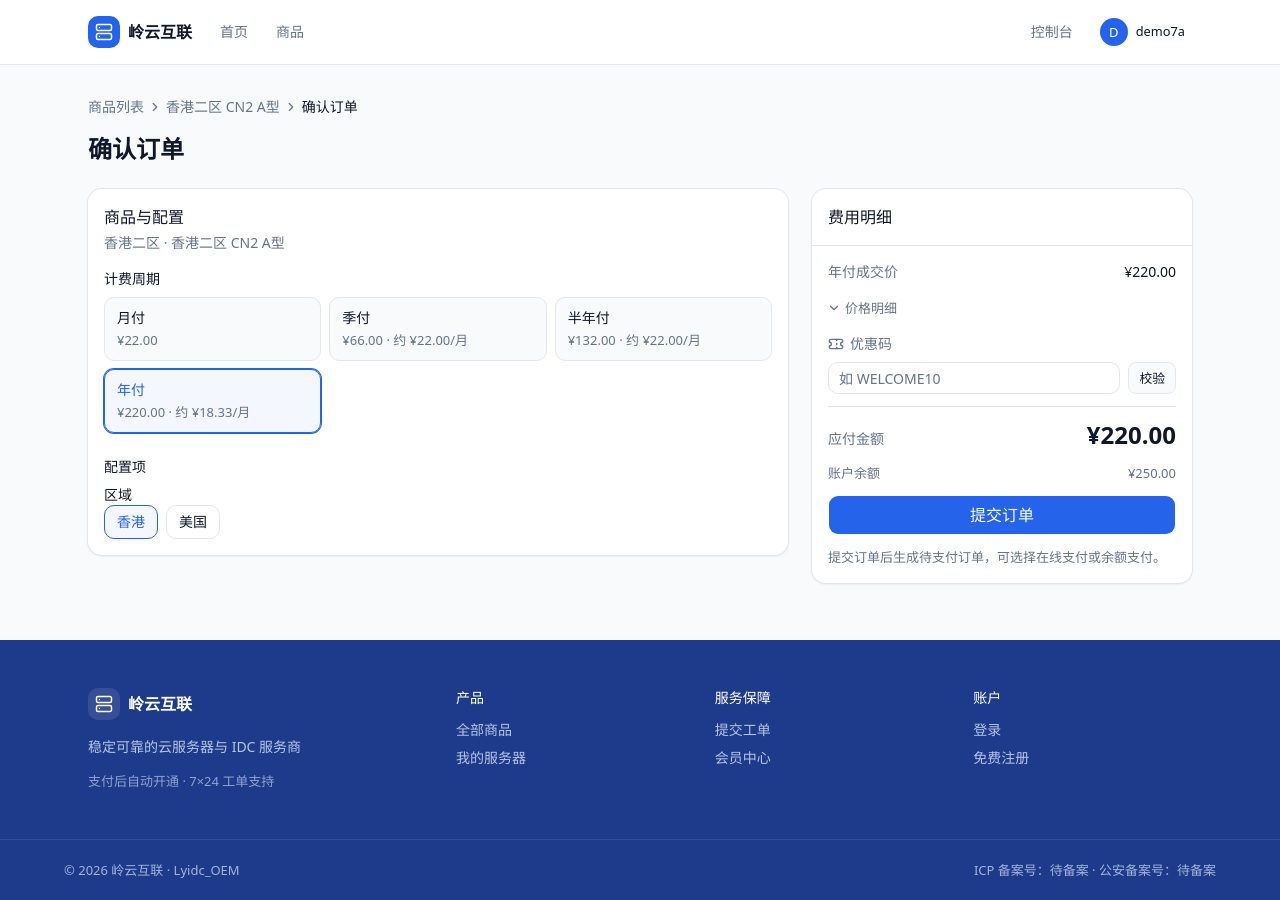
Scenario: 结算页 › 优惠码不适用当前周期时展示明确原因
Expected: the heading "确认订单" is shown, [88,132,184,165]
Type "ANNUALONLY" into the field labelled "优惠码" at (974, 378), box [828,362,1120,394]
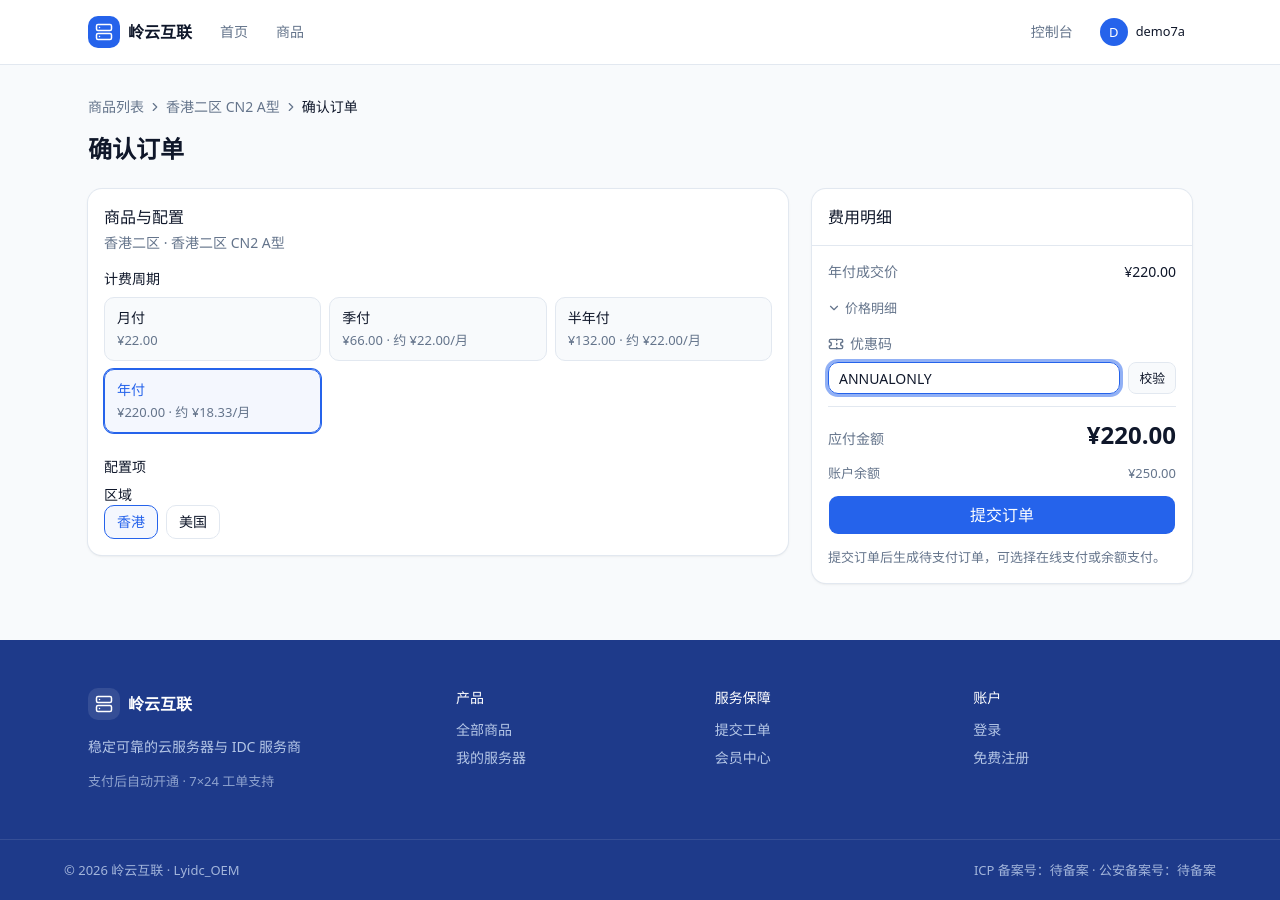
Click the button "校验" at (1152, 378), box [1128,362,1176,394]
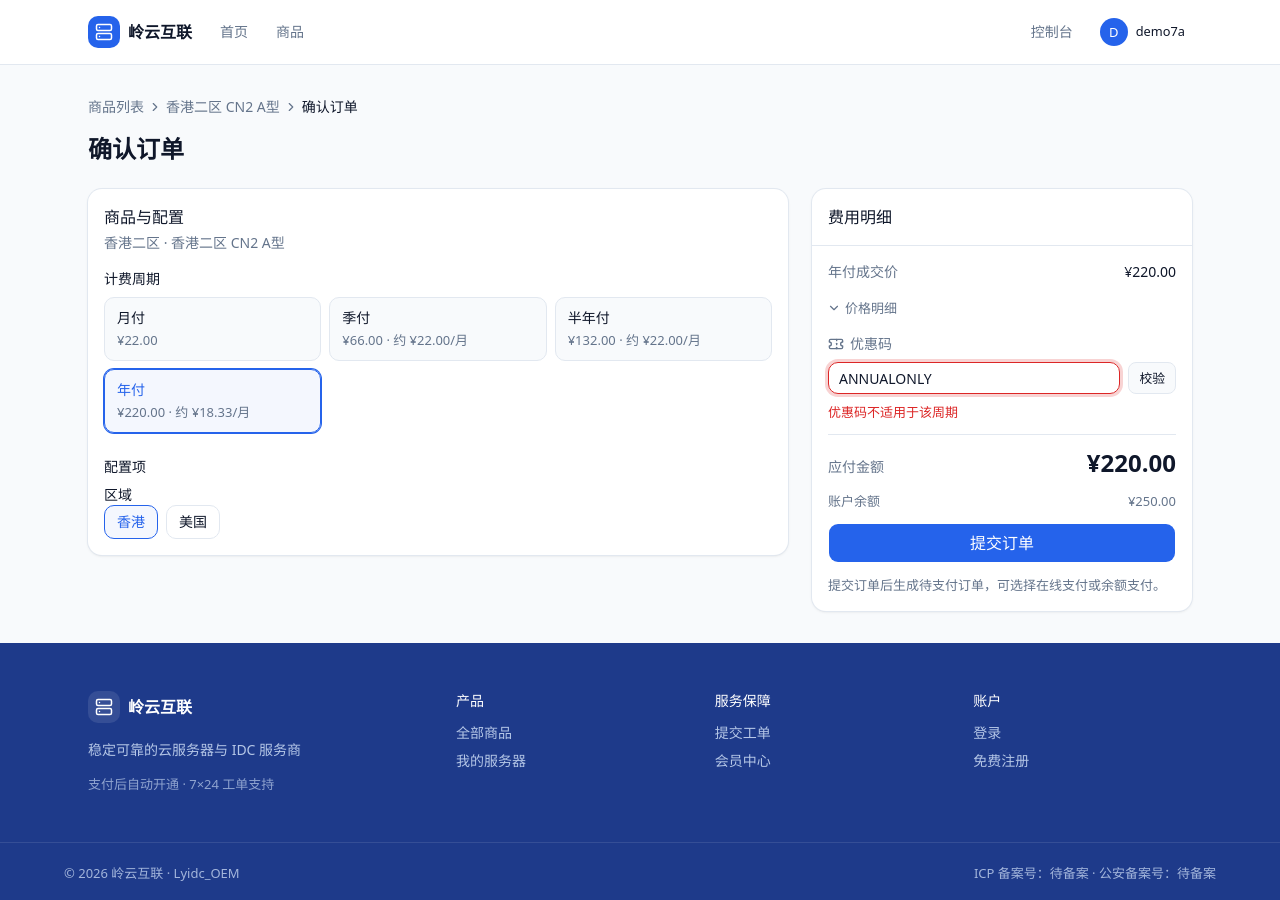
Expected: the text with test id "payable-amount" reads "¥220.00", [1087,446,1176,479]
Now the text "优惠码不适用于该周期" is shown, box [828,403,958,421]
